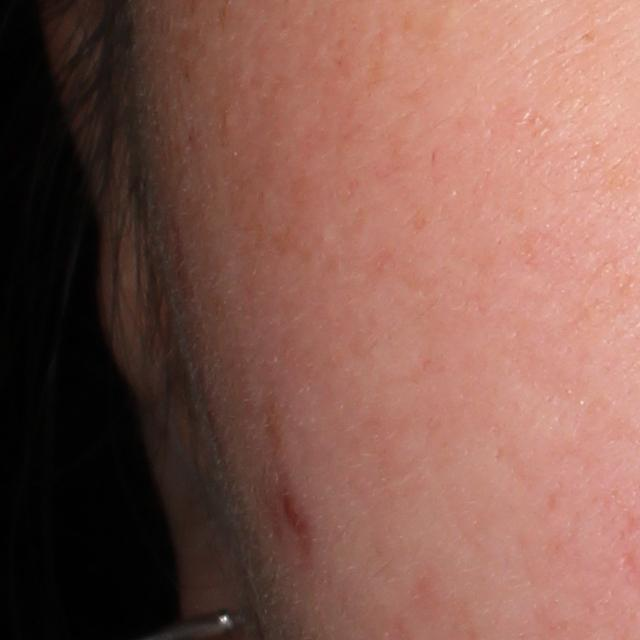papule: (281, 493, 309, 529)
